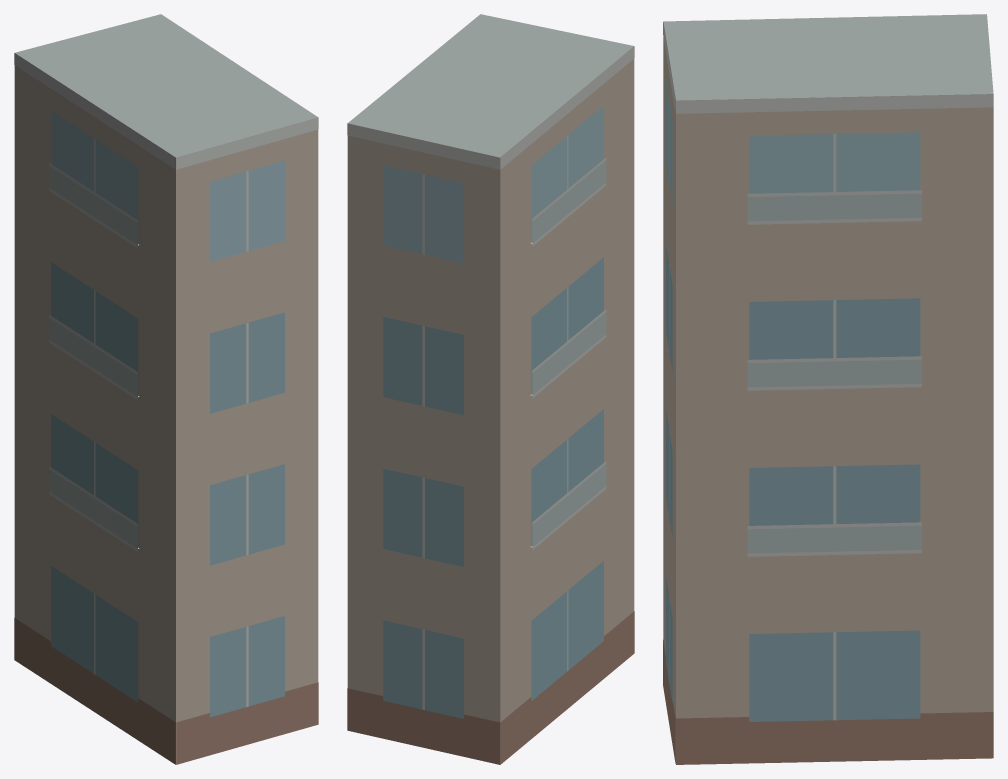
File: survey-upis-32635485.glb
3 views of the same model, side by side, from view 1: azimuth 30°, elevation 25°; view 2: azimuth 150°, elevation 25°; view 3: azimuth 270°, elevation 25° (orthographic). The views are drawn at different scales.
Visible parts, largest first — view 1: survey-upis-32635485.tmp; view 2: survey-upis-32635485.tmp; view 3: survey-upis-32635485.tmp.
Part boxes in pixels (x1,y1,x2,y2): survey-upis-32635485.tmp: [14, 14, 318, 764]; survey-upis-32635485.tmp: [347, 14, 634, 764]; survey-upis-32635485.tmp: [663, 14, 993, 764].
Size of the model in its own units: 3.42 by 12.2 by 5.51.
